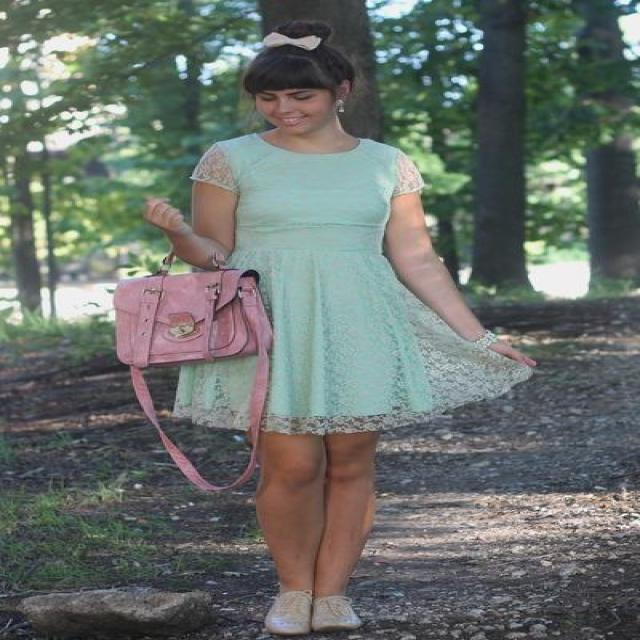bag: (98, 269, 272, 494)
dress: (173, 134, 534, 436)
shoe: (266, 589, 360, 632)
